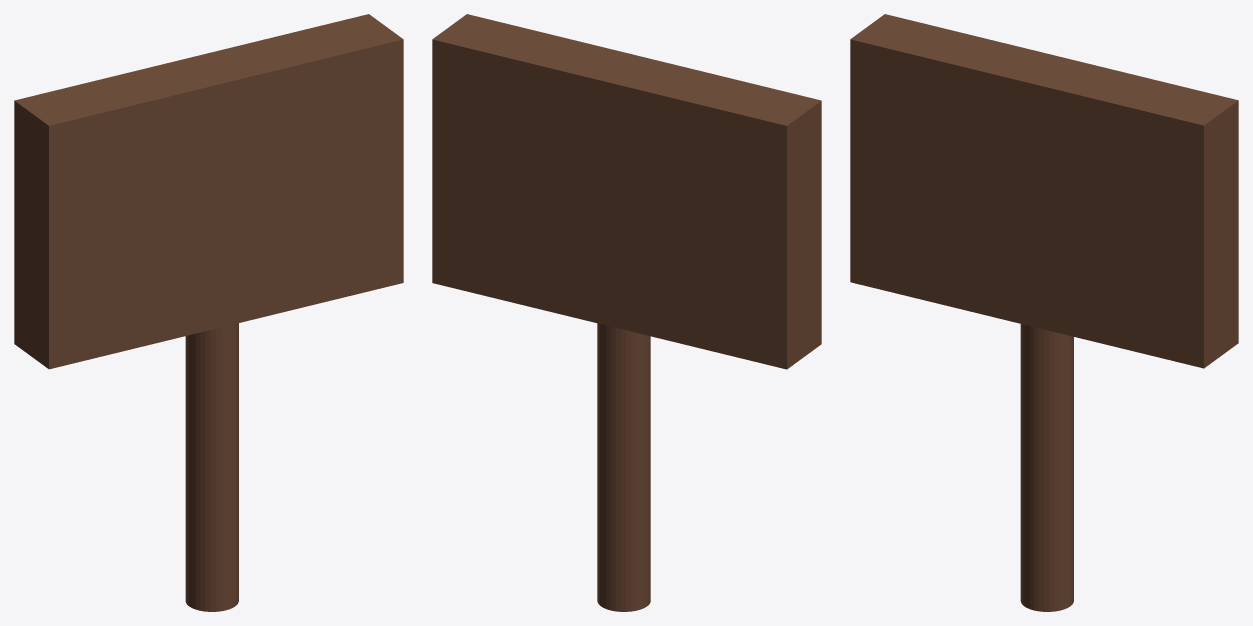
The model's file is sign.fbx.
3 views of the same model, side by side, from view 1: azimuth 30°, elevation 25°; view 2: azimuth 150°, elevation 25°; view 3: azimuth 330°, elevation 25° (orthographic).
Visible parts, largest first — view 1: Cylinder; view 2: Cylinder; view 3: Cylinder.
Part boxes in pixels (bbox=[...]): Cylinder: bbox=[14, 14, 403, 611]; Cylinder: bbox=[432, 14, 821, 611]; Cylinder: bbox=[850, 14, 1238, 611].
Bounding box in the file's own units: 605 × 866 × 103.
